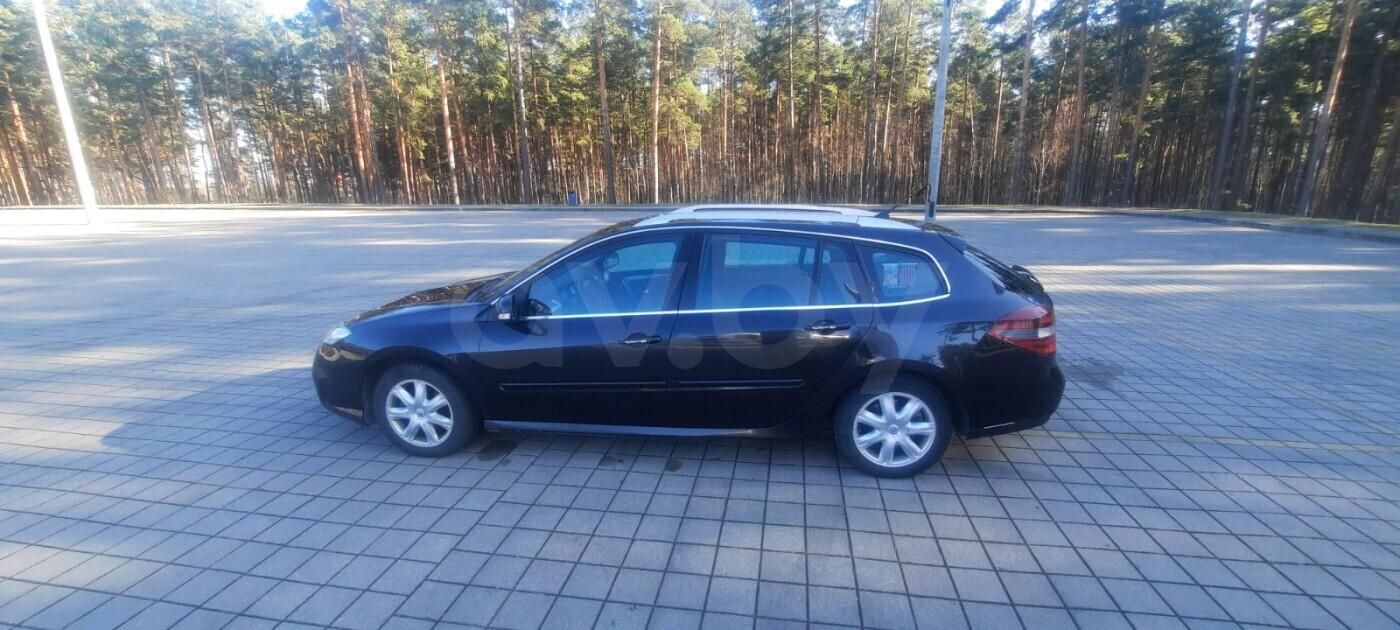Laguna_2007-2011: (313, 204, 1066, 477)
